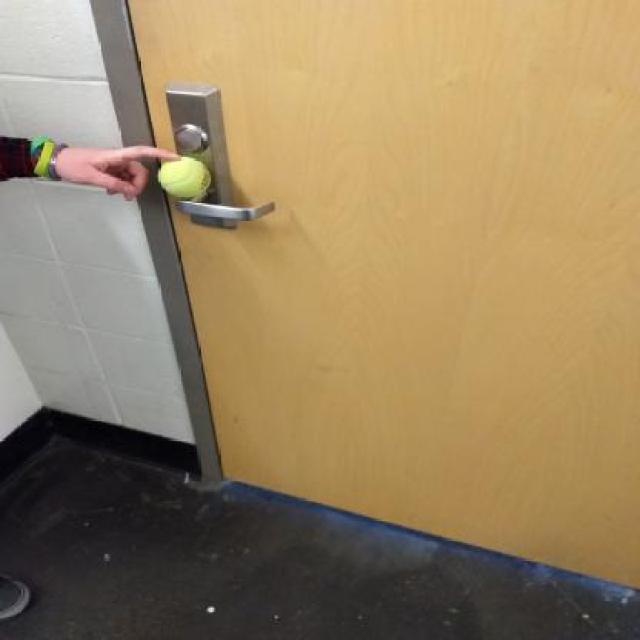Tennis_Ball: (158, 157, 211, 198)
